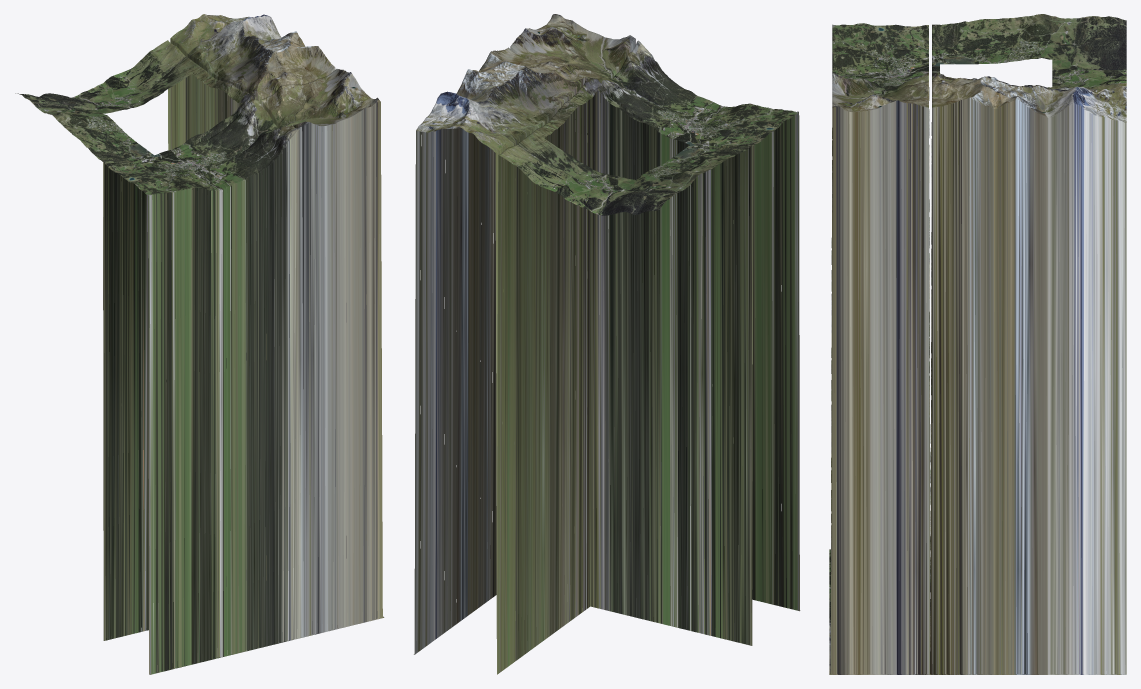
Rendered from panorama-v4.glb.
3 views of the same model, side by side, from view 1: azimuth 30°, elevation 25°; view 2: azimuth 150°, elevation 25°; view 3: azimuth 270°, elevation 25° (orthographic). The views are drawn at different scales.
Parts seen in each view (by area): view 1: Panorama / 5 6, Panorama / 3 6, Panorama / 2 6, Panorama / 4 6, Panorama / 1 6, Panorama / -4 6, Panorama / 0 6, Panorama / -3 6, Panorama / -1 6, Panorama / -2 6, Panorama / -4 2, Panorama / -5 2 (+8 smaller); view 2: Panorama / 1 2, Panorama / 2 2, Panorama / -4 2, Panorama / -4 6, Panorama / 0 2, Panorama / -3 2, Panorama / -1 2, Panorama / -2 2, Panorama / -5 2, Panorama / -5 6, Panorama / 2 -5, Panorama / 6 -5 (+16 smaller); view 3: Panorama / 6 -1, Panorama / 6 0, Panorama / 6 4, Panorama / 6 -4, Panorama / 6 -2, Panorama / 6 3, Panorama / 6 1, Panorama / 6 5, Panorama / 6 -3, Panorama / 6 -5, Panorama / 6 2, Panorama / 6 -6 (+7 smaller).
Part boxes in pixels (bbox=[...]): Panorama / 5 6: bbox=[344, 108, 366, 626]; Panorama / 3 6: bbox=[304, 122, 326, 636]; Panorama / 2 6: bbox=[284, 124, 306, 641]; Panorama / 4 6: bbox=[325, 119, 346, 631]; Panorama / 1 6: bbox=[264, 143, 286, 646]; Panorama / -4 6: bbox=[164, 188, 186, 670]; Panorama / 0 6: bbox=[244, 167, 266, 650]; Panorama / -3 6: bbox=[184, 186, 206, 665]; Panorama / -1 6: bbox=[224, 178, 246, 655]; Panorama / -2 6: bbox=[204, 186, 226, 660]; Panorama / -4 2: bbox=[118, 159, 148, 636]; Panorama / -5 2: bbox=[101, 159, 128, 640]; Panorama / 1 2: bbox=[605, 86, 637, 615]; Panorama / 2 2: bbox=[585, 77, 616, 610]; Panorama / -4 2: bbox=[710, 137, 741, 641]; Panorama / -4 6: bbox=[758, 106, 781, 606]; Panorama / 0 2: bbox=[626, 106, 658, 620]; Panorama / -3 2: bbox=[689, 135, 721, 636]; Panorama / -1 2: bbox=[647, 120, 679, 625]; Panorama / -2 2: bbox=[668, 128, 700, 631]; Panorama / -5 2: bbox=[731, 141, 759, 645]; Panorama / -5 6: bbox=[779, 109, 800, 611]; Panorama / 2 -5: bbox=[500, 143, 532, 670]; Panorama / 6 -5: bbox=[420, 108, 448, 650]; Panorama / 6 -1: bbox=[989, 92, 1014, 674]; Panorama / 6 0: bbox=[963, 91, 988, 674]; Panorama / 6 4: bbox=[862, 95, 887, 674]; Panorama / 6 -4: bbox=[1065, 92, 1090, 674]; Panorama / 6 -2: bbox=[1014, 94, 1039, 674]; Panorama / 6 3: bbox=[887, 99, 912, 674]; Panorama / 6 1: bbox=[938, 99, 963, 674]; Panorama / 6 5: bbox=[837, 101, 862, 674]; Panorama / 6 -3: bbox=[1039, 100, 1064, 674]; Panorama / 6 -5: bbox=[1090, 106, 1115, 674]; Panorama / 6 2: bbox=[913, 103, 938, 674]; Panorama / 6 -6: bbox=[1115, 110, 1126, 674].
Size of the model in its own units: 6016 by 12887 by 6016.
1 material, 1 textured.
